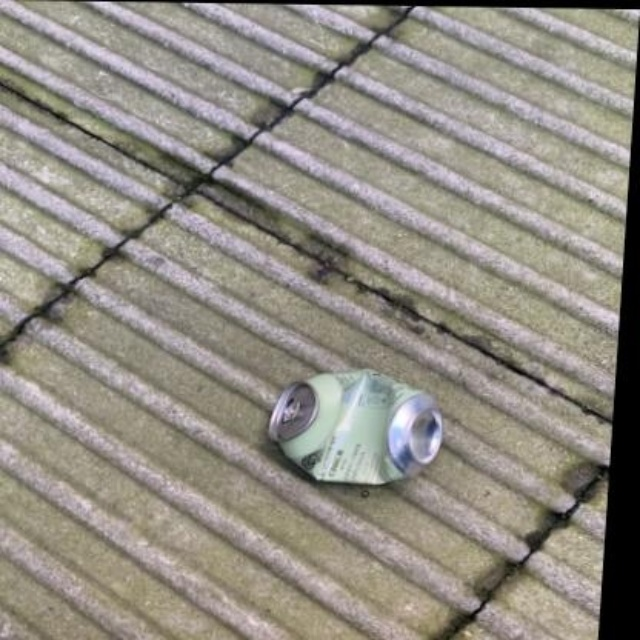trash: (269, 369, 442, 483)
